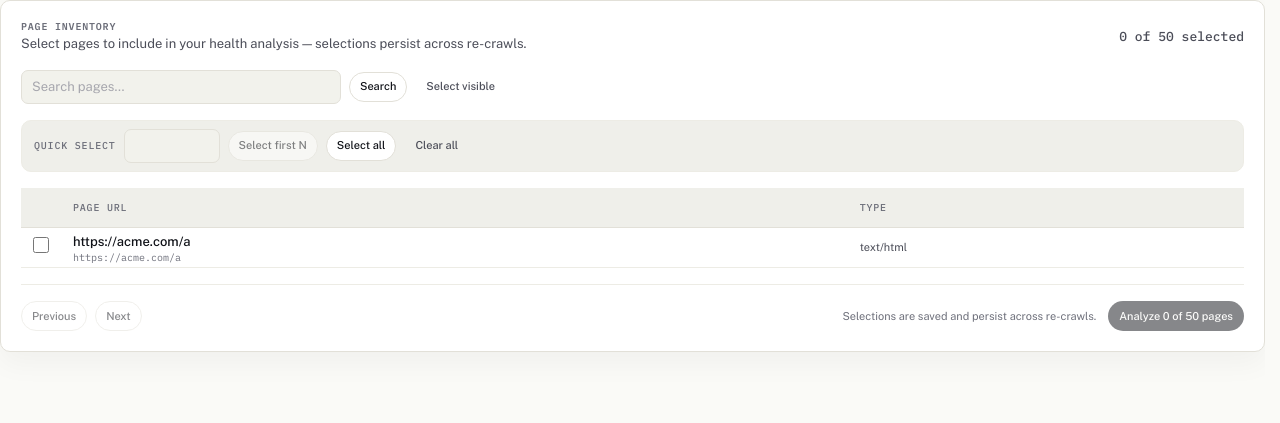
Test: InventorySelection › rebases onto the server version and prompts a resubmit on a stale conflict
Click the checkbox named "Monitor https://acme.com/a".
click(41, 245)  # box top-left (33, 237), bottom-right (49, 253)
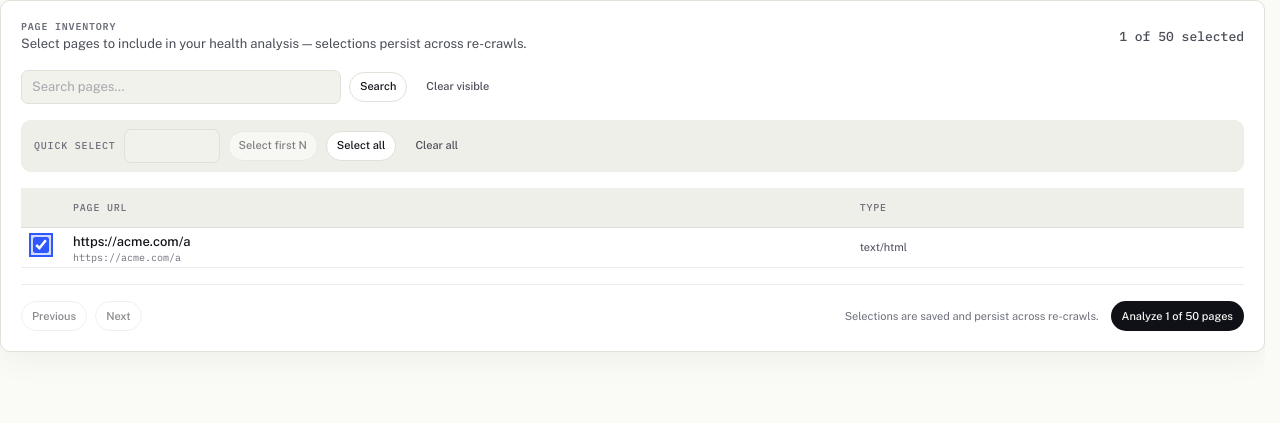
Click the button "Analyze 1 of 50 pages".
click(1177, 316)  # box top-left (1110, 301), bottom-right (1244, 331)
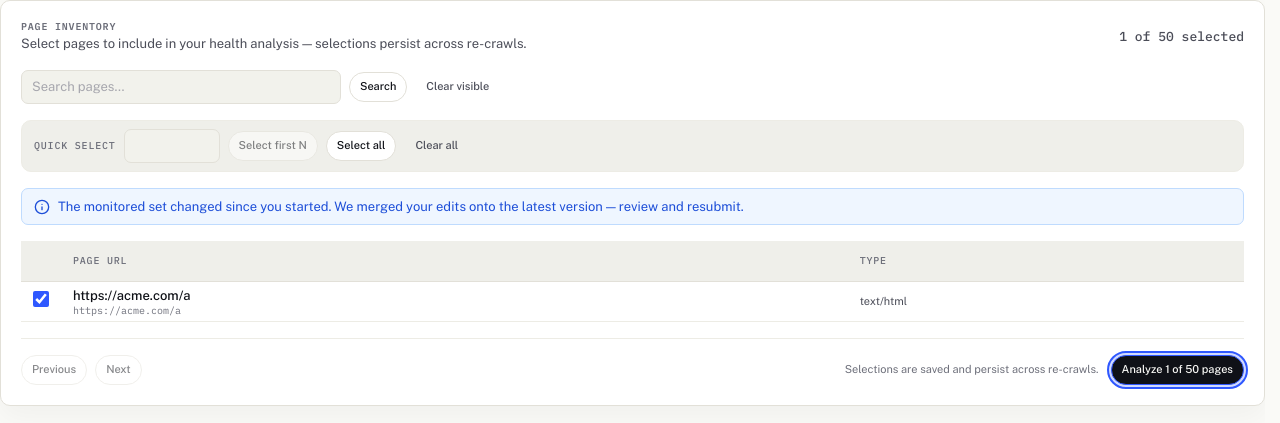
Expected: the button "Analyze 1 of 50 pages" is enabled, top-left (1110, 355), bottom-right (1244, 385)
Expected: the text "merged your edits onto the latest version" is shown, top-left (58, 199), bottom-right (744, 214)
